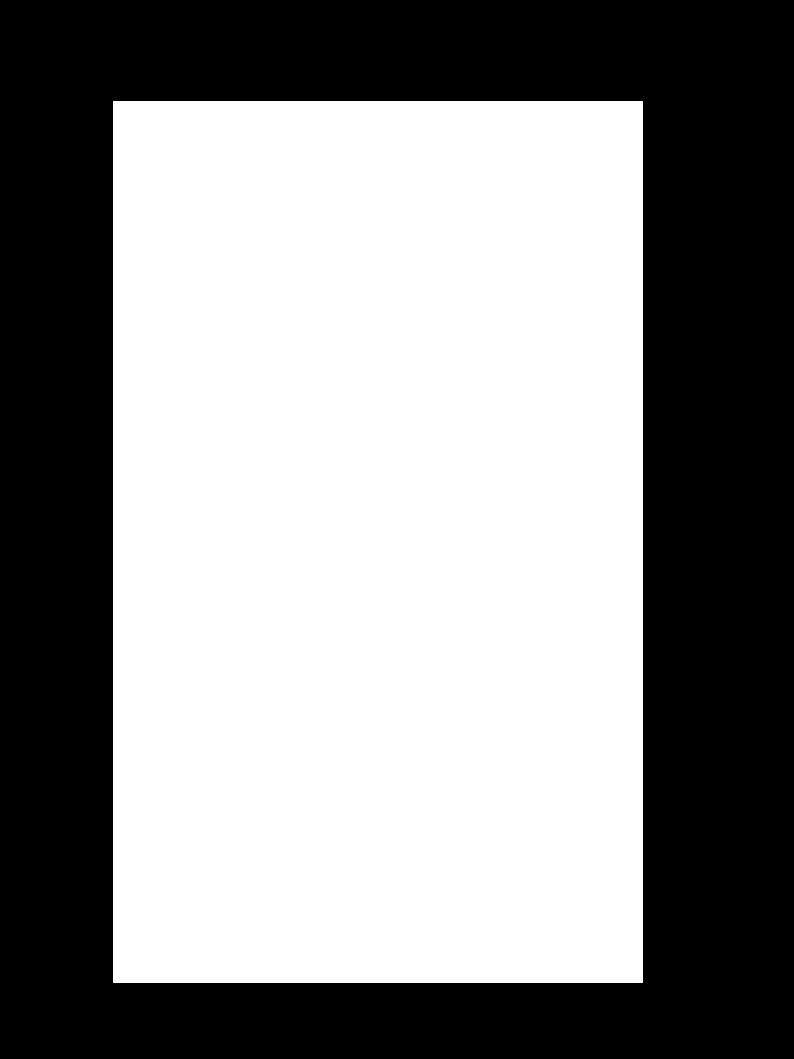table: (113, 101, 642, 982)
